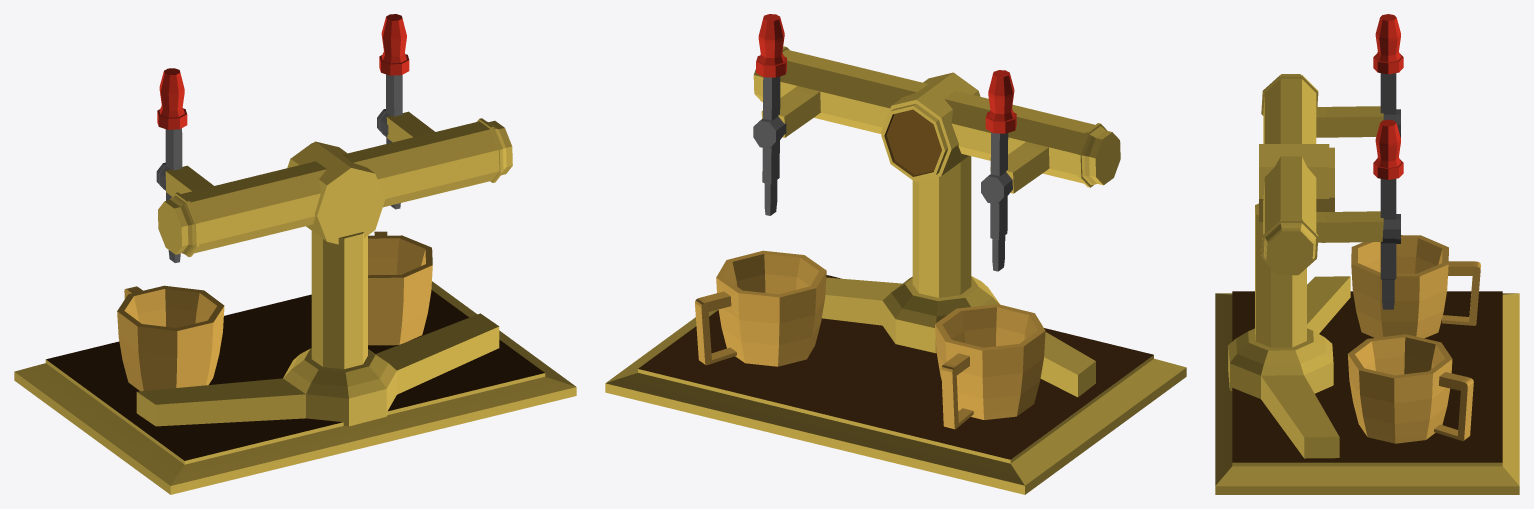
File: Balance Scale.fbx
3 renders of one model, left to right at view 1: azimuth 30°, elevation 25°; view 2: azimuth 150°, elevation 25°; view 3: azimuth 270°, elevation 25°, orthographic. The views are drawn at different scales.
Visible parts, largest first — view 1: Node 0; view 2: Node 0; view 3: Node 0.
Part boxes in pixels (<box>): Node 0: <box>14,14,576,494</box>; Node 0: <box>605,14,1186,494</box>; Node 0: <box>1215,14,1519,494</box>.
Bounding box in the file's own units: 0.2546 × 0.302 × 0.3818.
